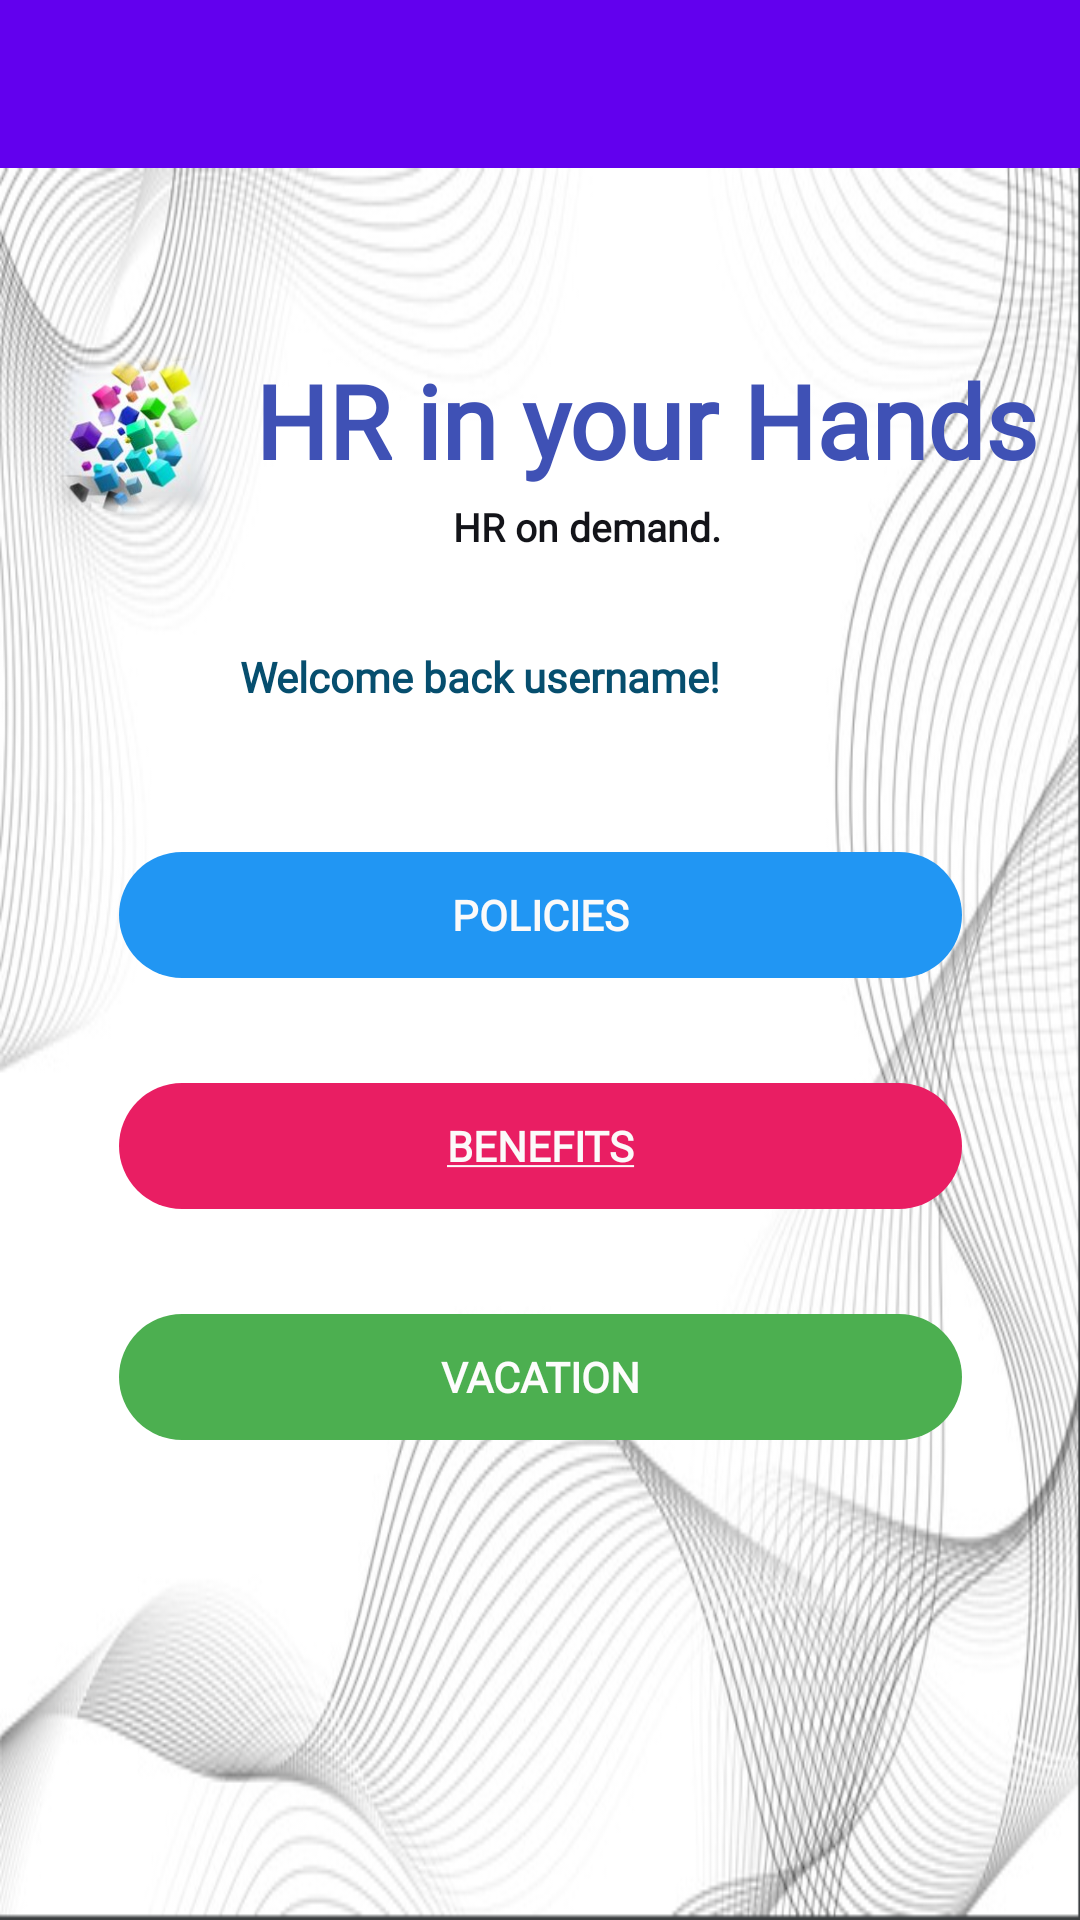

Where icons sit on this 1080 × 1920 app screen, as region(x1, y1, x2, y2):
blocks: region(30, 352, 239, 520)
